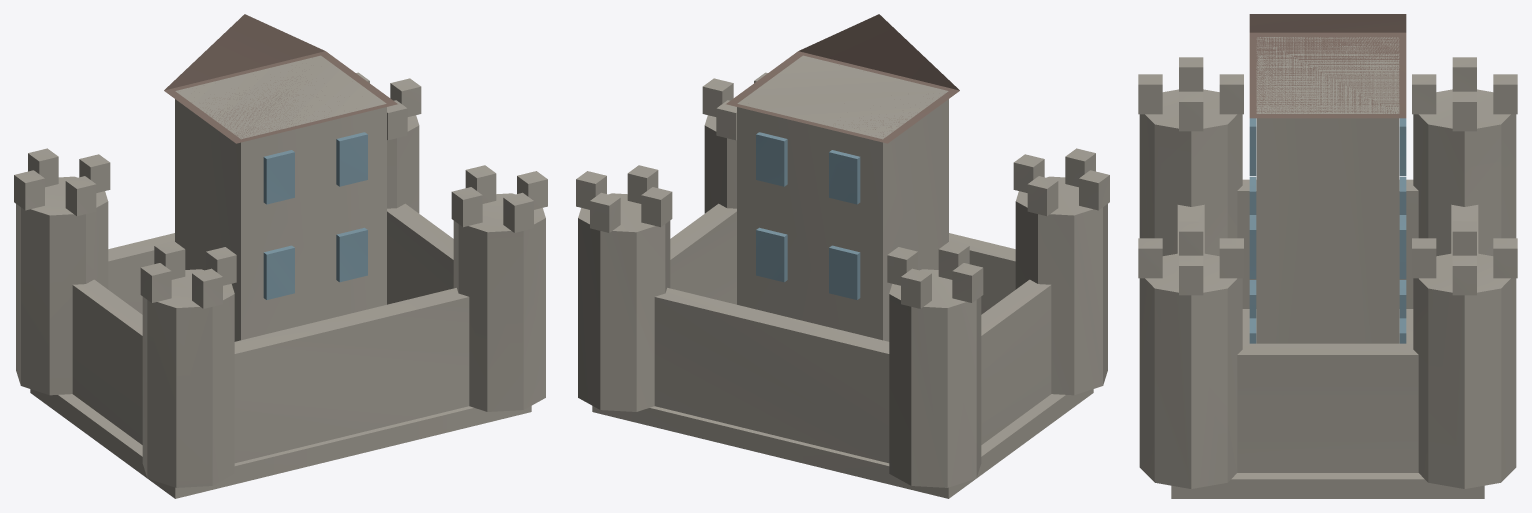
Rendered from castle-07.glb.
The picture shows the model from 3 angles, left to right: view 1: azimuth 30°, elevation 25°; view 2: azimuth 150°, elevation 25°; view 3: azimuth 270°, elevation 25°; orthographic projection. The views are drawn at different scales.
Visible parts, largest first — view 1: world; view 2: world; view 3: world.
Part boxes in pixels (left/top/right/bottom): world: left=14, top=14, right=547, bottom=498; world: left=576, top=14, right=1109, bottom=498; world: left=1138, top=14, right=1517, bottom=498.
Bounding box in the file's own units: 1.82 × 1.59 × 1.4.
